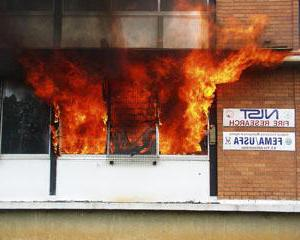fire: (21, 25, 290, 154)
